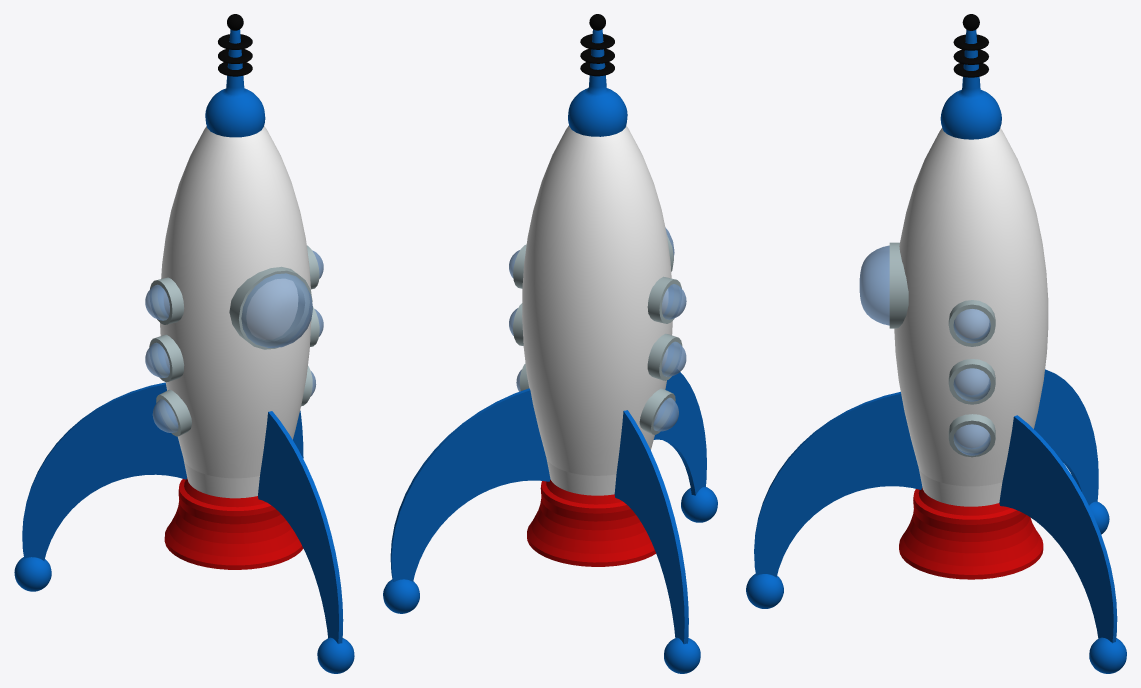
File: cohete.gltf
3 views of the same model, side by side, from view 1: azimuth 30°, elevation 25°; view 2: azimuth 150°, elevation 25°; view 3: azimuth 270°, elevation 25° (orthographic). The views are drawn at different scales.
Parts seen in each view (by area): view 1: Mesh_0, Mesh_3, Mesh_1, Mesh_4, Mesh_2, Mesh_5; view 2: Mesh_0, Mesh_3, Mesh_1, Mesh_2, Mesh_4, Mesh_5; view 3: Mesh_0, Mesh_3, Mesh_1, Mesh_4, Mesh_2, Mesh_5.
Boxes of the visible parts, x1,y1,x2,y2 form: Mesh_0: (160, 126, 311, 498); Mesh_3: (14, 29, 354, 673); Mesh_1: (164, 478, 303, 569); Mesh_4: (145, 250, 323, 432); Mesh_2: (149, 245, 319, 436); Mesh_5: (218, 14, 252, 76); Mesh_0: (522, 125, 672, 495); Mesh_3: (383, 29, 717, 673); Mesh_1: (527, 479, 655, 566); Mesh_2: (513, 235, 682, 434); Mesh_4: (509, 227, 686, 431); Mesh_5: (580, 14, 614, 76); Mesh_0: (894, 128, 1048, 506); Mesh_3: (746, 29, 1126, 673); Mesh_1: (899, 487, 1043, 579); Mesh_4: (859, 245, 990, 455); Mesh_2: (889, 242, 995, 457); Mesh_5: (953, 14, 988, 77).
Size of the model in its own units: 4.76 by 8.66 by 5.05.
